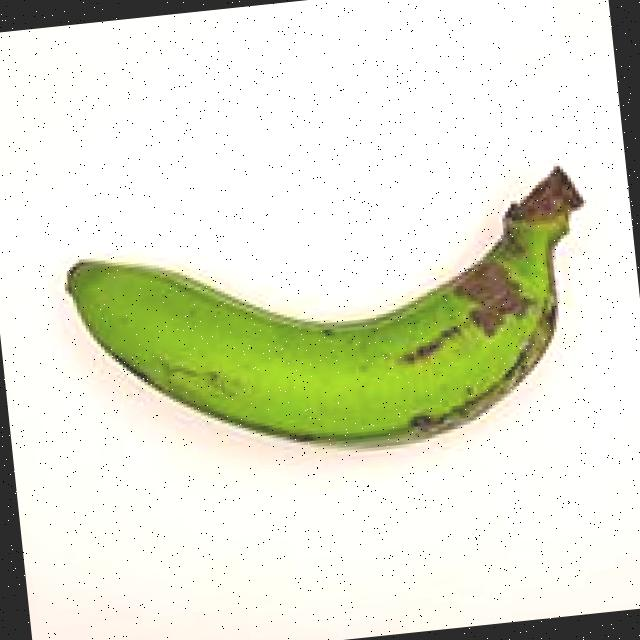Raw: (34, 139, 625, 508)
